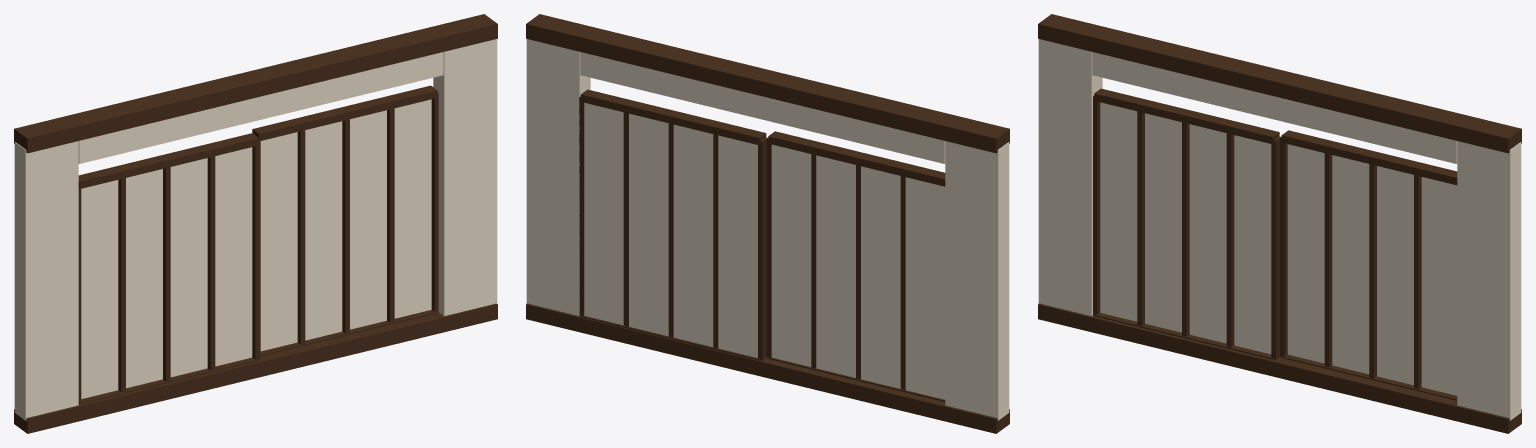
File: hanok_door_double.glb
3 renders of one model, left to right at view 1: azimuth 30°, elevation 25°; view 2: azimuth 150°, elevation 25°; view 3: azimuth 330°, elevation 25°, orthographic.
Visible parts, largest first — view 1: hanok_door_double; view 2: hanok_door_double; view 3: hanok_door_double.
Part boxes in pixels (x1=…): hanok_door_double: x1=14, y1=14, x2=497, y2=433; hanok_door_double: x1=526, y1=14, x2=1009, y2=433; hanok_door_double: x1=1038, y1=14, x2=1521, y2=433.
Bounding box in the file's own units: 4.01 × 2.4 × 0.2.
